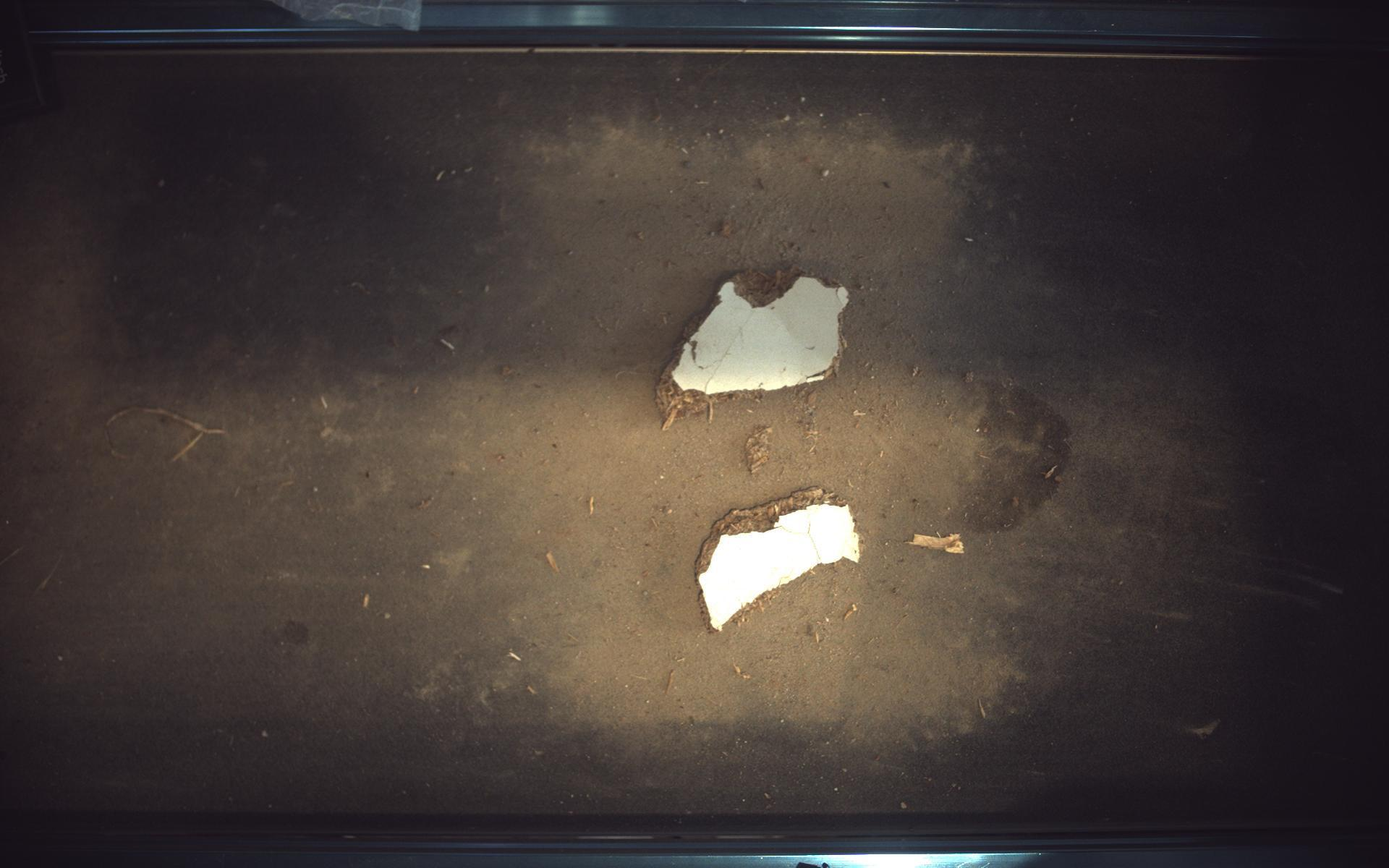wood: (657, 268, 850, 430), (697, 488, 861, 631), (747, 427, 774, 475)
